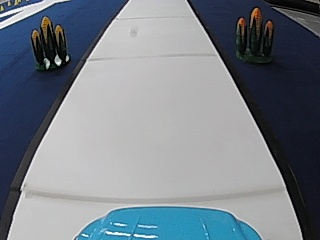corn: (232, 5, 276, 64), (30, 13, 70, 71)
